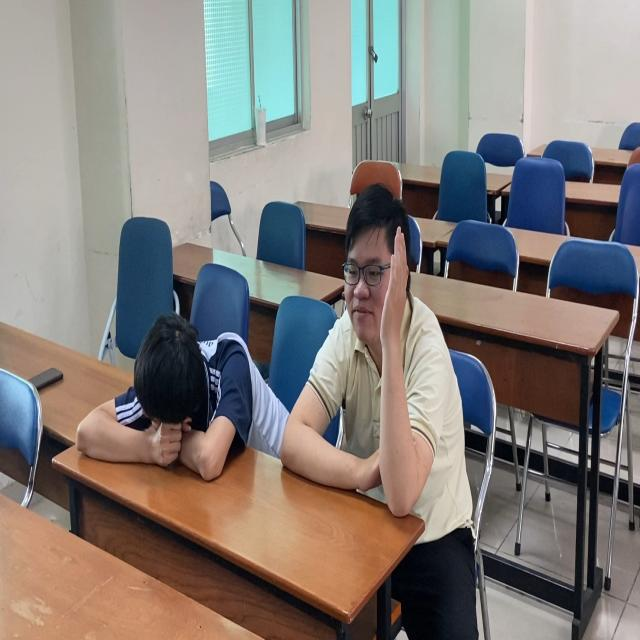raise_hand: (298, 182, 457, 528)
sleep: (73, 312, 286, 494)
